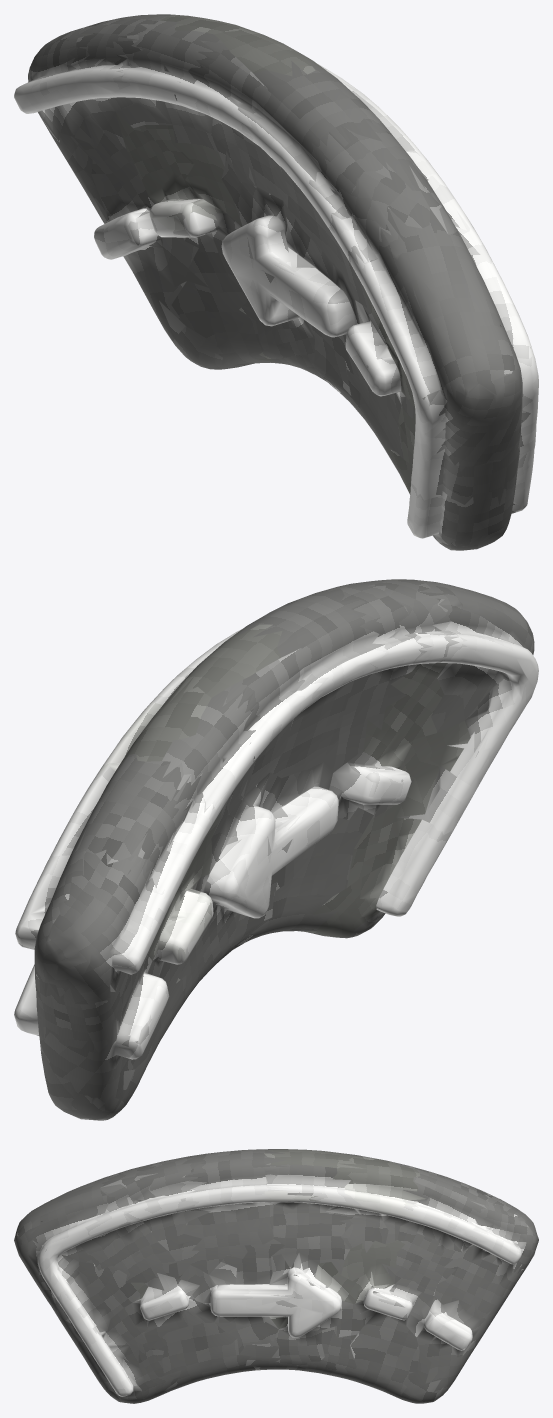
Rendered from KR_사물_s1_sm_road_mark.glb.
3 views of the same model, one above another, from view 1: azimuth 30°, elevation 25°; view 2: azimuth 150°, elevation 25°; view 3: azimuth 270°, elevation 25° (orthographic). The views are drawn at different scales.
Visible parts, largest first — view 1: tripo_node_8d213b44-e3fd-40aa-a18e-d5980dca606b; view 2: tripo_node_8d213b44-e3fd-40aa-a18e-d5980dca606b; view 3: tripo_node_8d213b44-e3fd-40aa-a18e-d5980dca606b.
Part boxes in pixels (<box>): tripo_node_8d213b44-e3fd-40aa-a18e-d5980dca606b: <box>14,14,538,550</box>; tripo_node_8d213b44-e3fd-40aa-a18e-d5980dca606b: <box>14,579,538,1120</box>; tripo_node_8d213b44-e3fd-40aa-a18e-d5980dca606b: <box>14,1149,538,1403</box>.
Bounding box in the file's own units: 0.2508 × 0.492 × 1.
1 material, 1 textured.
